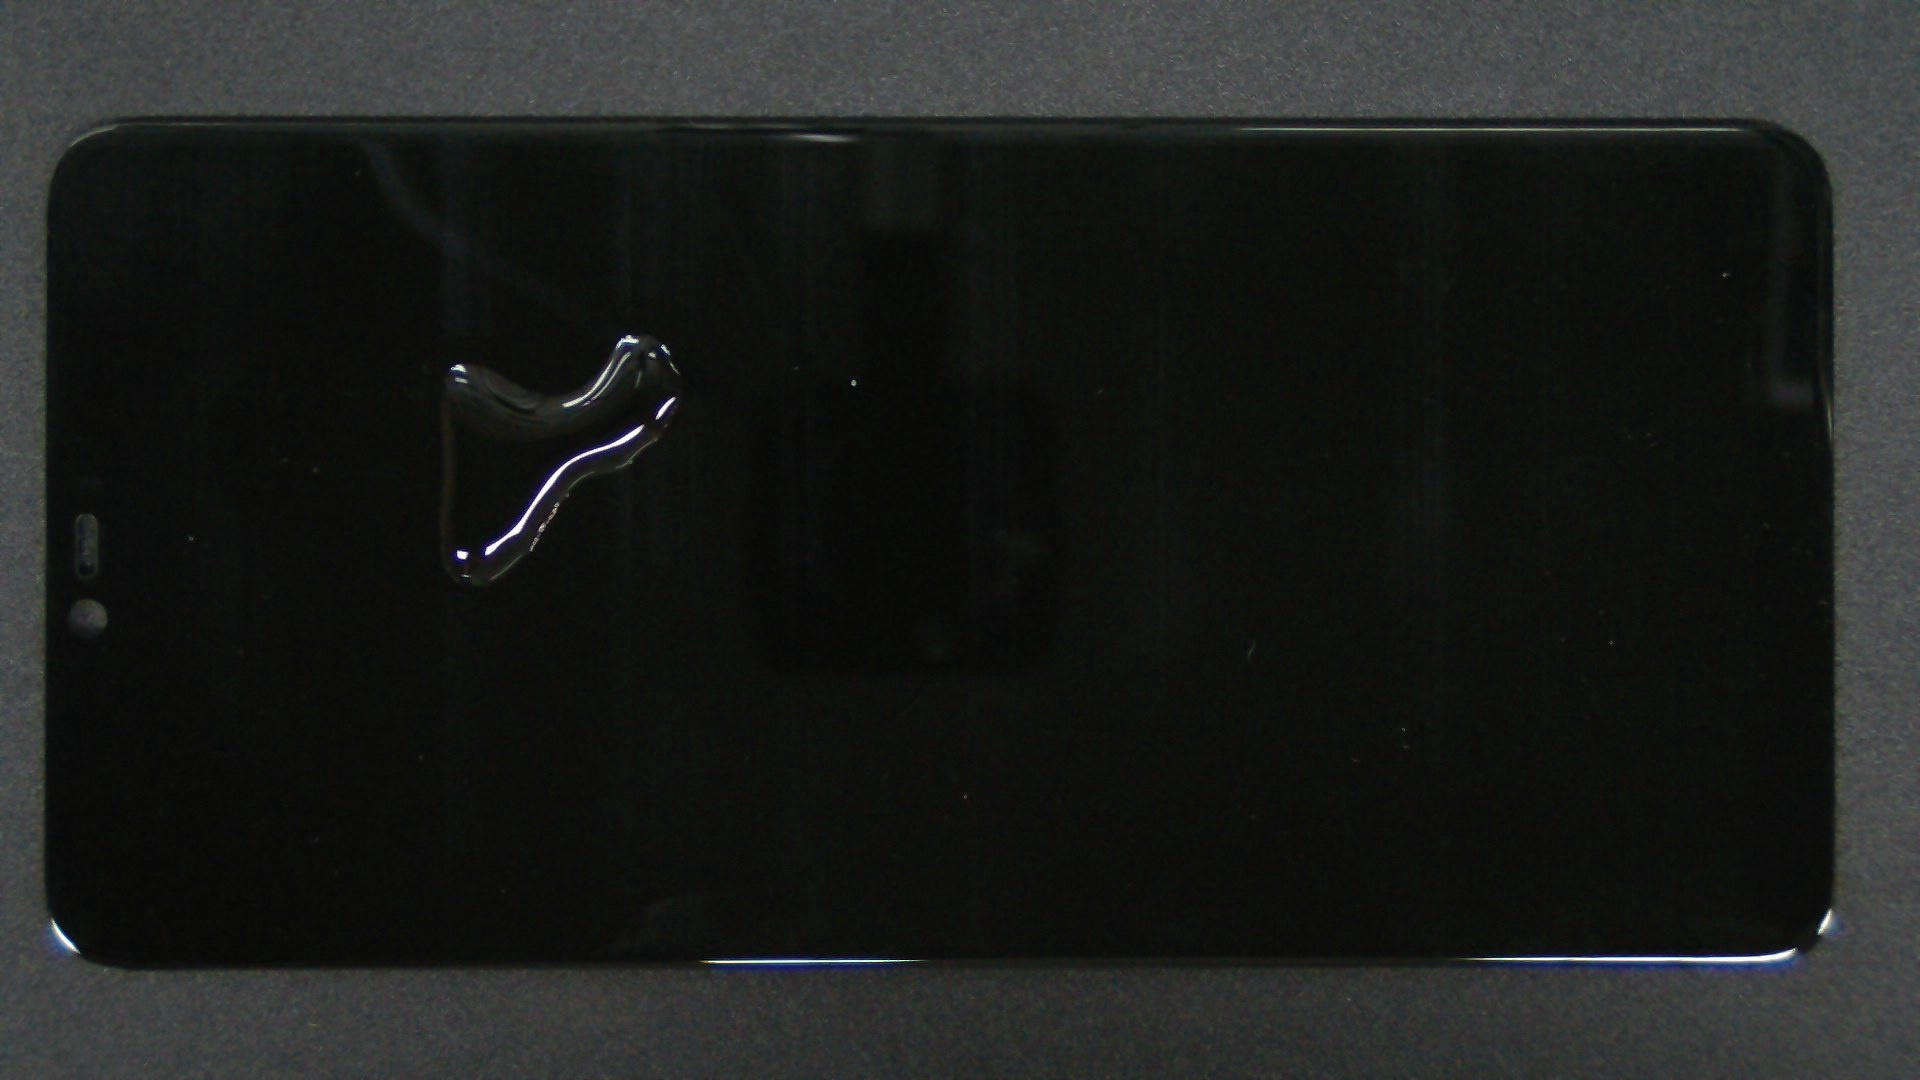oil: (427, 189, 1279, 568), (314, 167, 942, 502)
